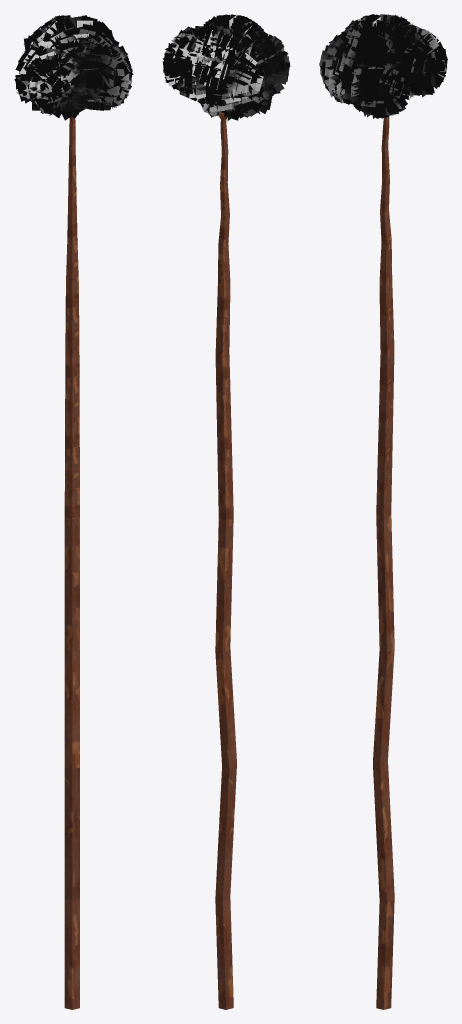
The model's file is tree.fbx.
3 renders of one model, left to right at view 1: azimuth 90°, elevation 25°; view 2: azimuth 150°, elevation 25°; view 3: azimuth 330°, elevation 25°, orthographic.
Visible parts, largest first — view 1: tree; view 2: tree; view 3: tree.
Part boxes in pixels (x1,y1,x2,y2): tree: [14, 15, 133, 1009]; tree: [162, 14, 290, 1009]; tree: [319, 14, 447, 1009].
Size of the model in its own units: 640 by 5657 by 621.
